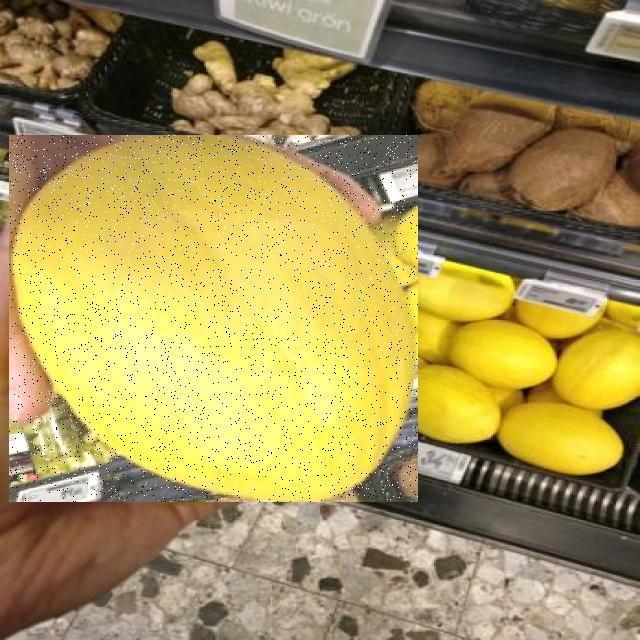Honey Dew: (9, 135, 418, 502)
